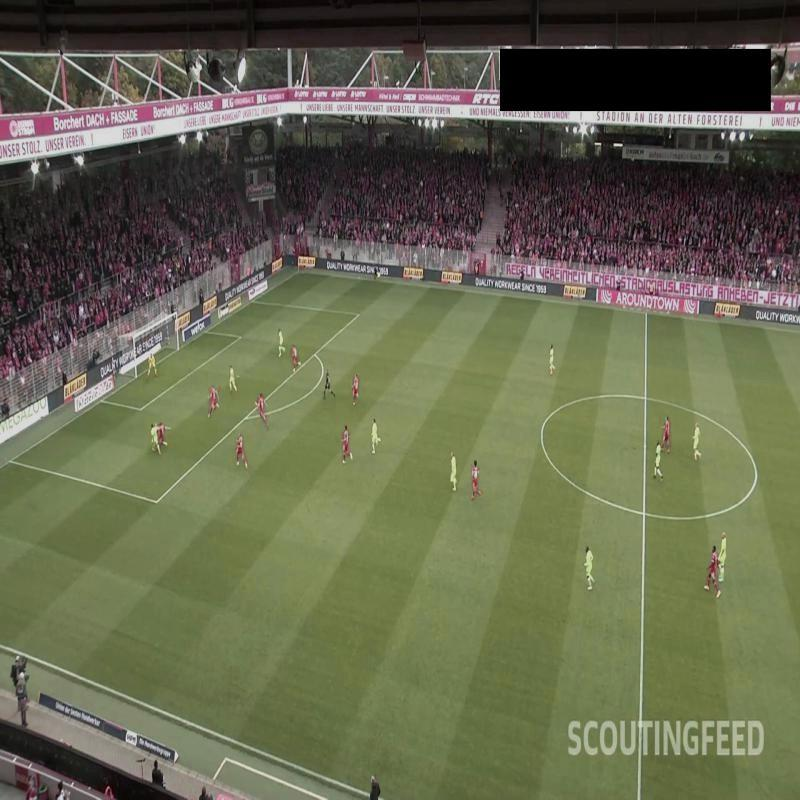1: (292, 266, 306, 280)
10: (308, 348, 322, 362)
11: (239, 412, 252, 426)
12: (150, 496, 164, 510)
13: (640, 306, 654, 320)
14: (639, 392, 653, 406)
15: (638, 507, 652, 521)
2: (245, 296, 259, 310)
3: (198, 325, 212, 339)
4: (94, 394, 108, 408)
5: (3, 454, 17, 468)
7: (234, 332, 248, 345)
8: (134, 403, 148, 417)
9: (353, 309, 366, 323)
c: (750, 465, 766, 482), (536, 424, 550, 439)
